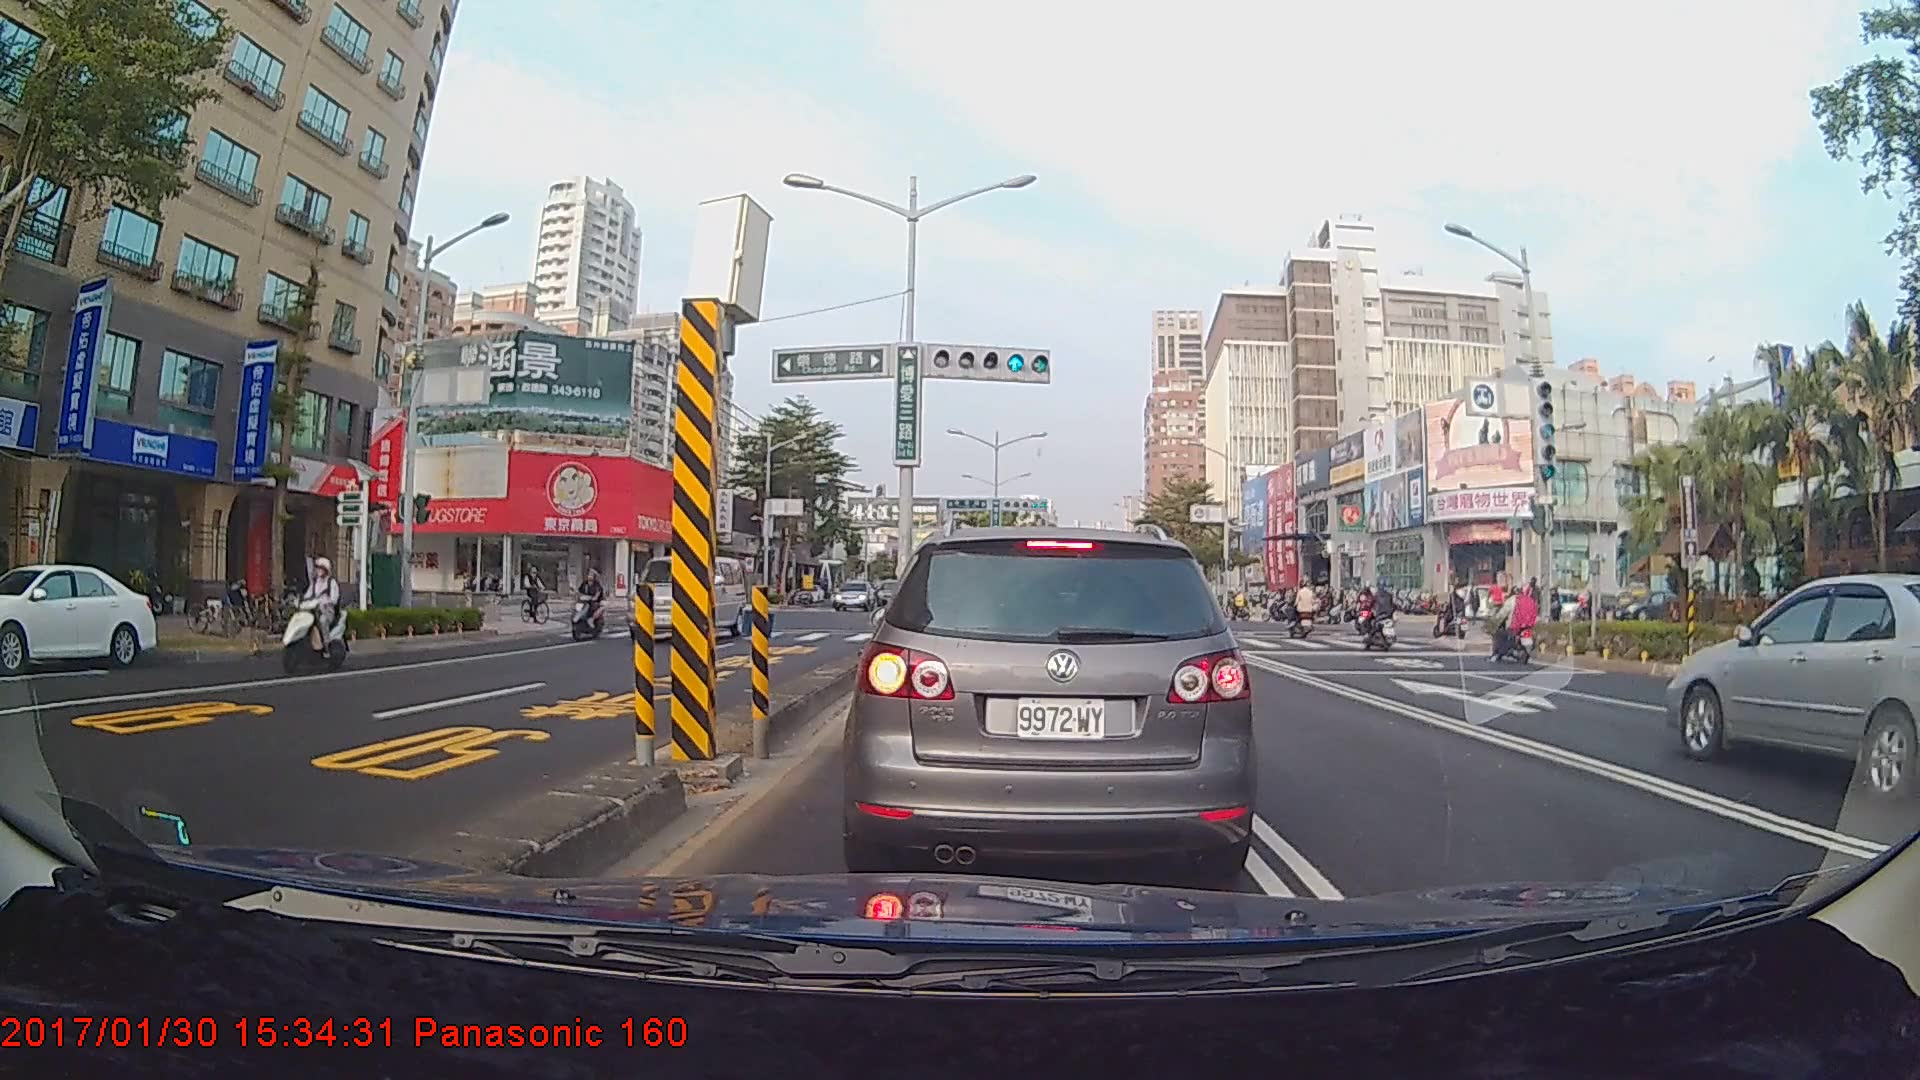rider: (260, 557, 340, 684), (1485, 582, 1548, 668), (1354, 580, 1407, 654), (574, 567, 617, 636), (518, 559, 561, 629), (1436, 582, 1473, 646), (1286, 582, 1326, 638)
vehicle: (851, 522, 1248, 886), (1666, 572, 1920, 802), (0, 561, 157, 671), (628, 553, 754, 646), (828, 579, 878, 611)
